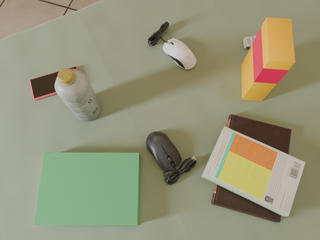book: (202, 126, 305, 216), (211, 114, 291, 222), (34, 153, 140, 226)
bottle: (54, 68, 101, 122)
box: (241, 18, 295, 101)
mouse: (146, 132, 196, 185), (163, 38, 197, 69)
phone: (30, 66, 78, 100)
toy_car: (243, 35, 257, 50)
